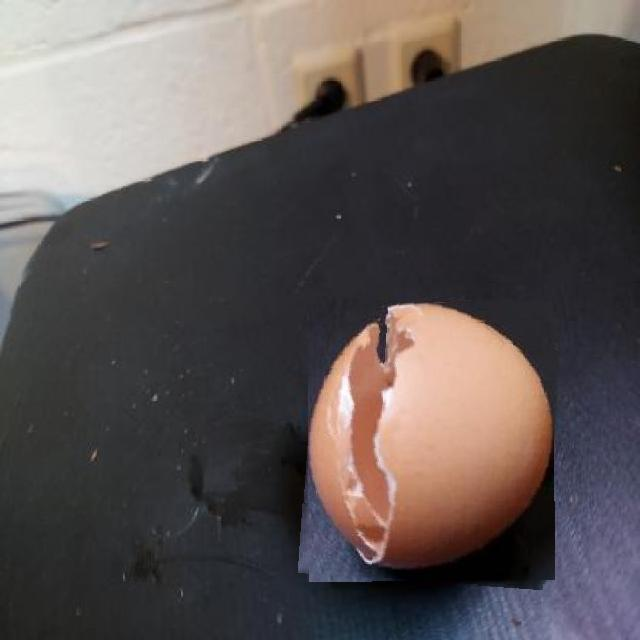biodegradable: (302, 300, 558, 586)
